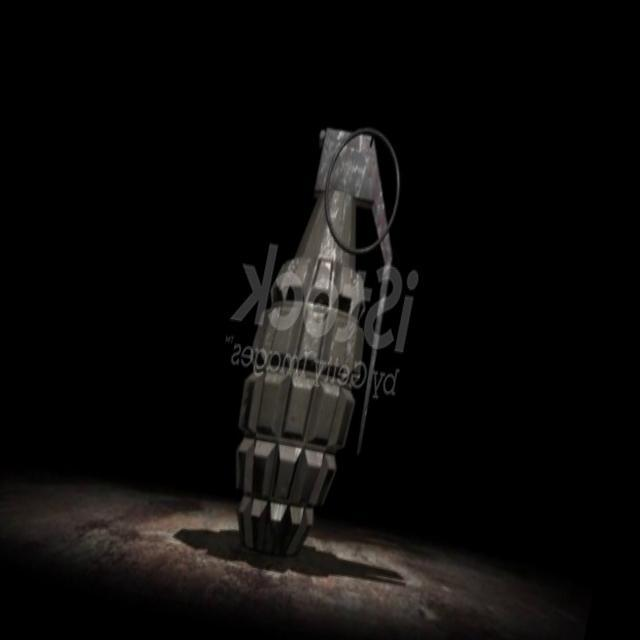grenade: (211, 106, 424, 566)
